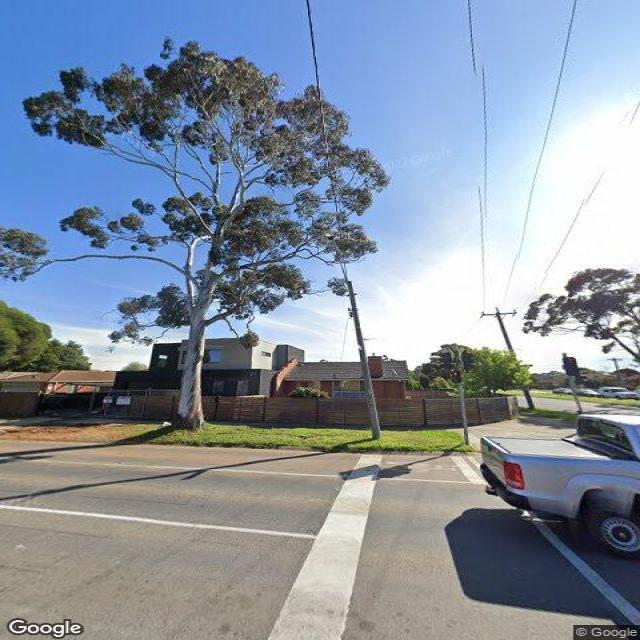HV-transmission: (480, 308, 517, 318)
crossarm: (481, 312, 517, 316), (607, 359, 623, 361)
steel-pole: (560, 351, 585, 414)
timber-pole: (342, 278, 386, 438), (495, 308, 537, 411), (613, 358, 621, 387)
traffic-light: (561, 357, 583, 378)
